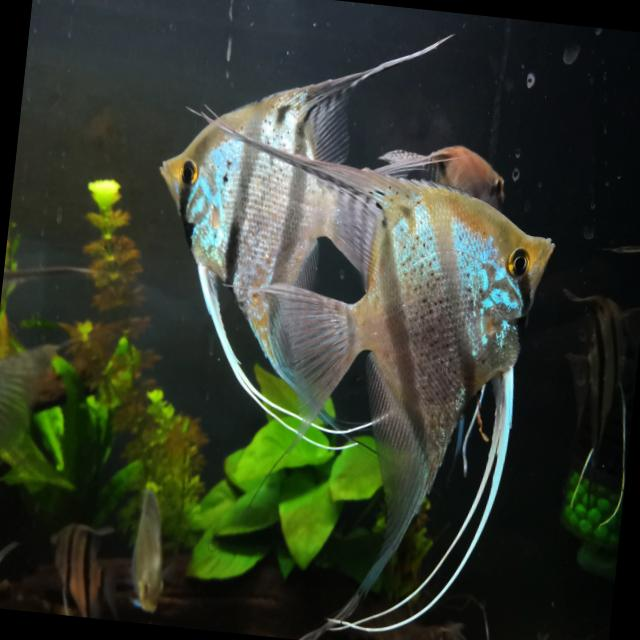AngelFish: (137, 97, 567, 640), (152, 0, 451, 230)
